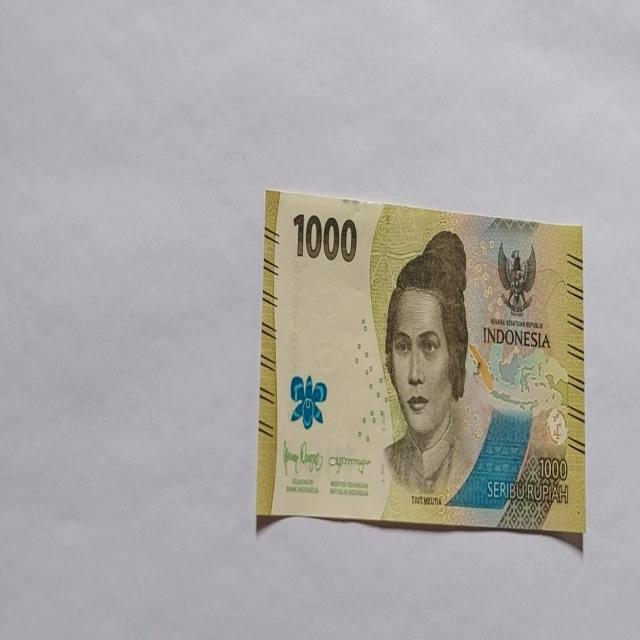seribu rupiah kertas: (257, 186, 585, 534)
